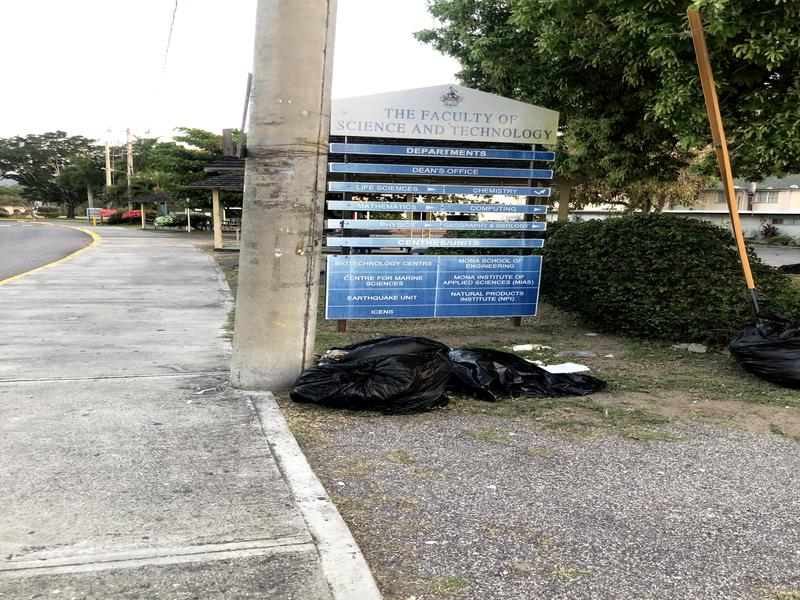18.0055634_-76.7484079_scitechsign: (321, 67, 572, 341)
